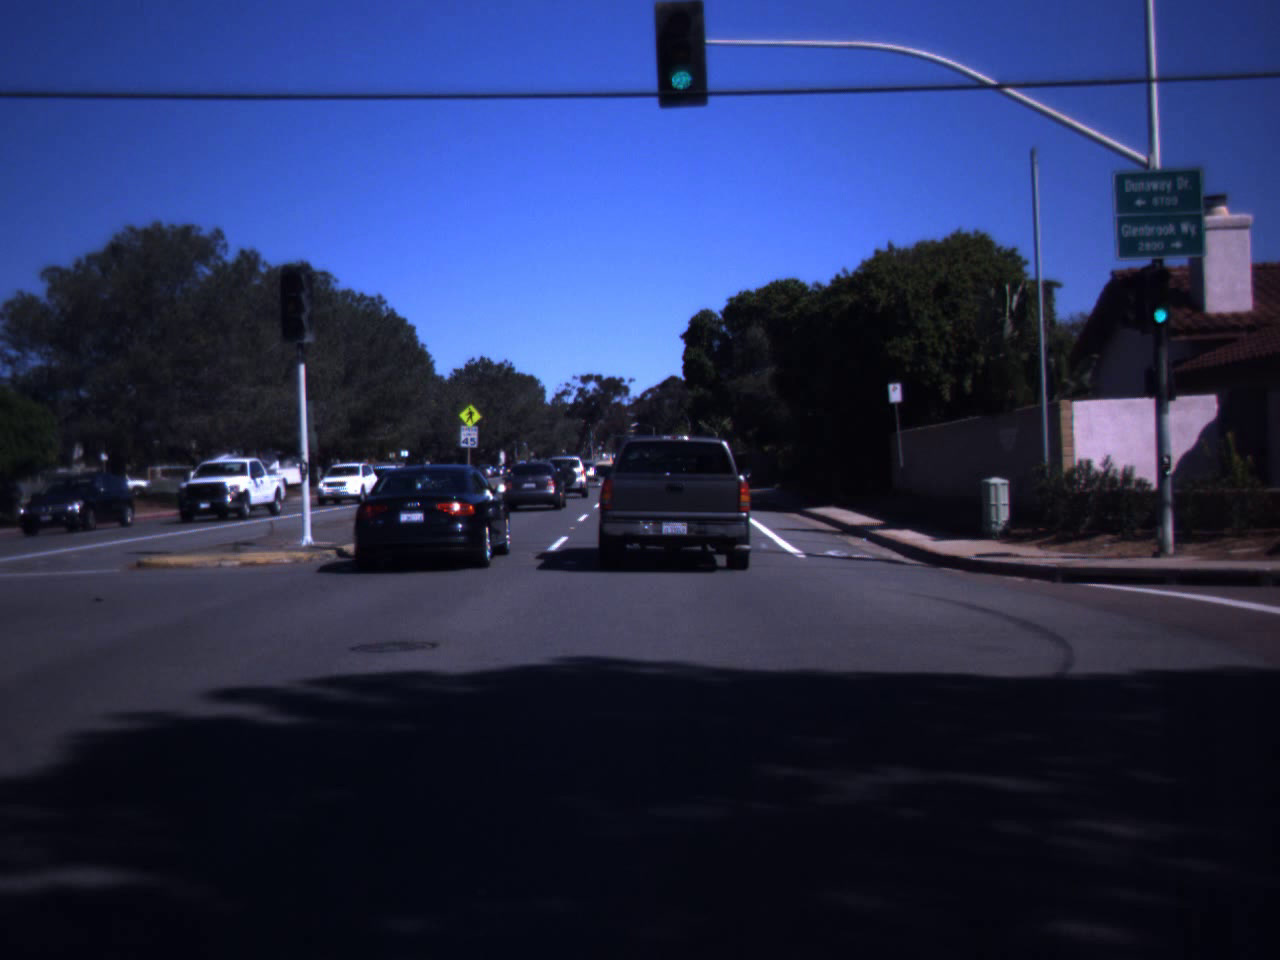go: (653, 0, 710, 83), (1156, 275, 1186, 325)
